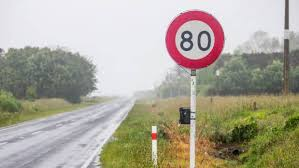Speed_limit_80km: (165, 11, 225, 69)
